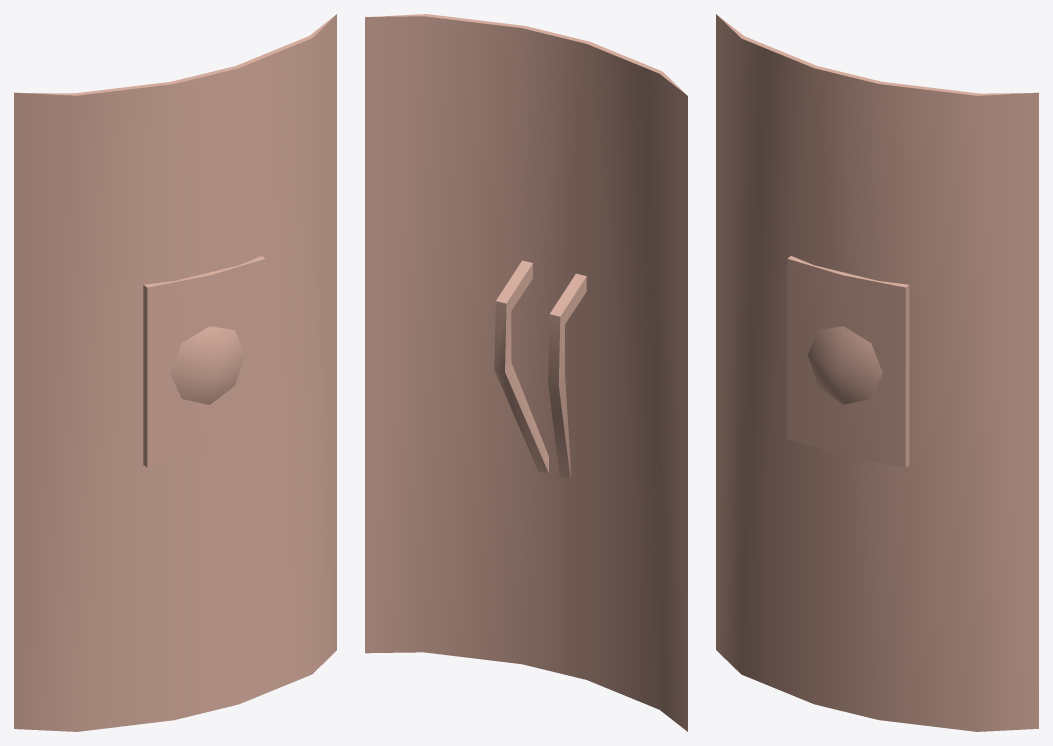
Rendered from phalanxshield.gltf.
The picture shows the model from 3 angles, left to right: view 1: azimuth 30°, elevation 25°; view 2: azimuth 150°, elevation 25°; view 3: azimuth 330°, elevation 25°; orthographic projection.
Parts seen in each view (by area): view 1: phalanx; view 2: phalanx; view 3: phalanx.
Part boxes in pixels (x1,y1,x2,y2): phalanx: (14,14,336,731); phalanx: (365,14,687,731); phalanx: (716,14,1038,731).
Bounding box in the file's own units: 0.6 × 1.13 × 0.1332.
